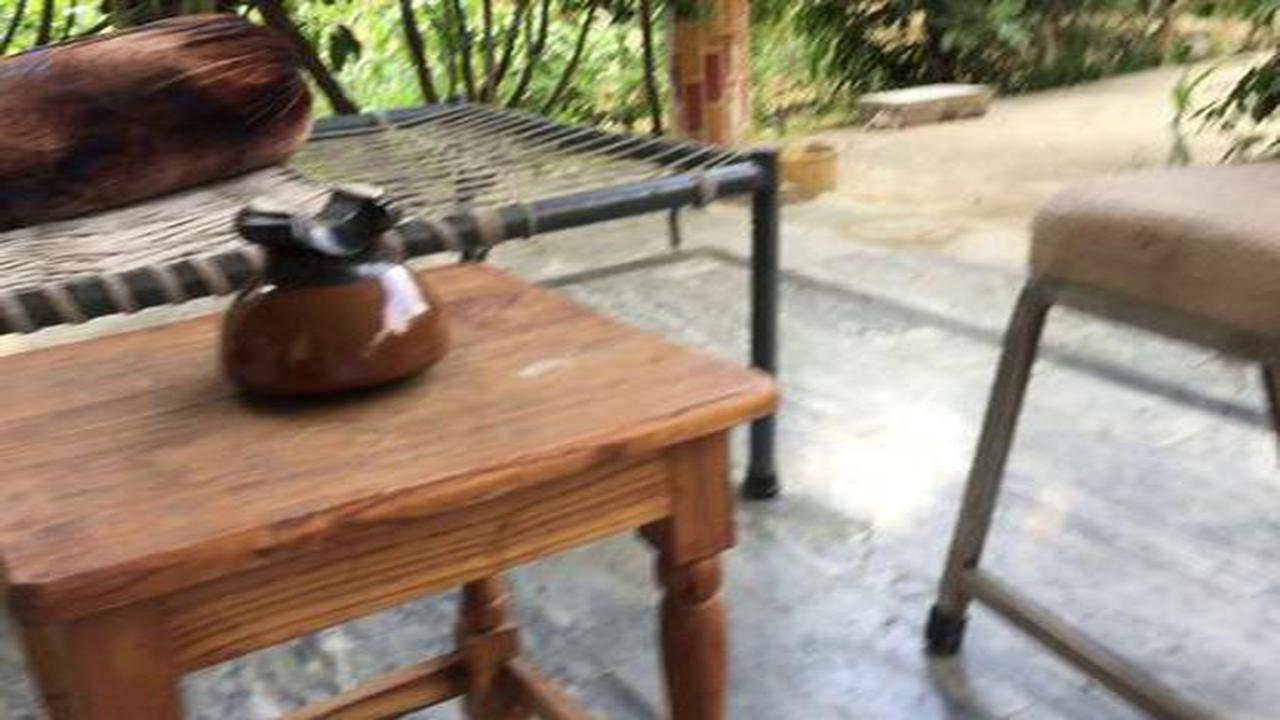insulator_pin: (197, 175, 465, 412)
